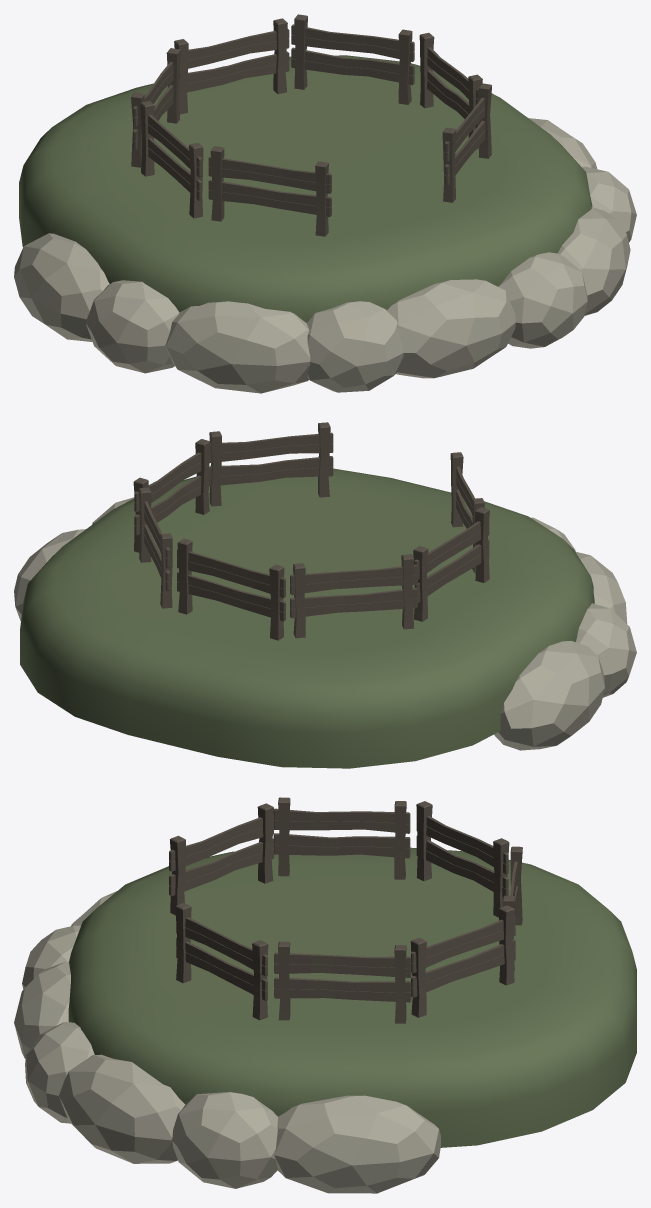
The model's file is scene_idle.fbx.
3 renders of one model, top to bottom at view 1: azimuth 30°, elevation 25°; view 2: azimuth 150°, elevation 25°; view 3: azimuth 270°, elevation 25°, orthographic. The views are drawn at different scales.
Parts seen in each view (by area): view 1: sol, nuages, barrieres; view 2: sol, barrieres, nuages; view 3: sol, nuages, barrieres.
Boxes of the visible parts, box(x1,y1,x2,y2) form: sol: box(19, 55, 592, 322); nuages: box(14, 118, 636, 393); barrieres: box(131, 14, 491, 236); sol: box(20, 468, 594, 768); barrieres: box(133, 422, 489, 640); nuages: box(14, 497, 636, 750); sol: box(68, 847, 636, 1147); nuages: box(14, 891, 440, 1193); barrieres: box(169, 797, 522, 1023).
Bounding box in the file's own units: 1160 × 372 × 1068.
